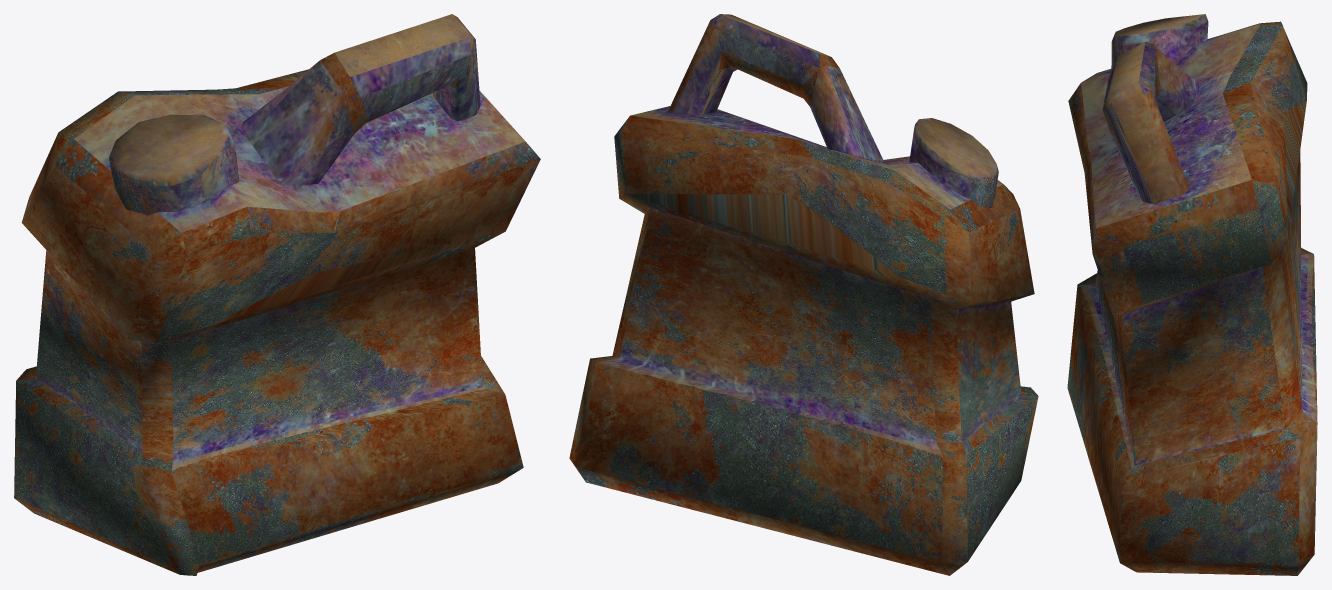
File: Gas_Can_broken_3.fbx
3 renders of one model, left to right at view 1: azimuth 30°, elevation 25°; view 2: azimuth 150°, elevation 25°; view 3: azimuth 270°, elevation 25°, orthographic. The views are drawn at different scales.
Visible parts, largest first — view 1: 3Gas_Can_broken_LOD0; view 2: 3Gas_Can_broken_LOD0; view 3: 3Gas_Can_broken_LOD0.
Boxes of the visible parts, x1,y1,x2,y2 form: 3Gas_Can_broken_LOD0: [14, 14, 540, 575]; 3Gas_Can_broken_LOD0: [569, 14, 1038, 575]; 3Gas_Can_broken_LOD0: [1067, 14, 1317, 575].
Size of what is drawn, in the model's own units: 73.3 by 76.35 by 36.98.
